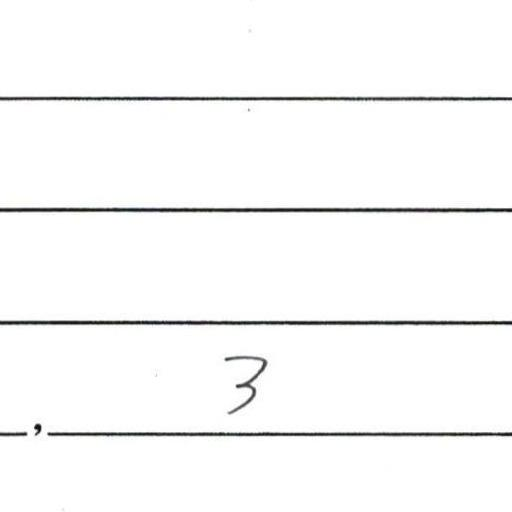ans: (219, 348, 268, 415)
